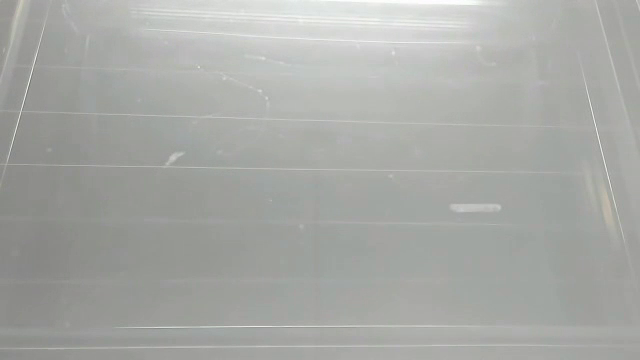alpha: (445, 197, 504, 218), (158, 147, 198, 171)
